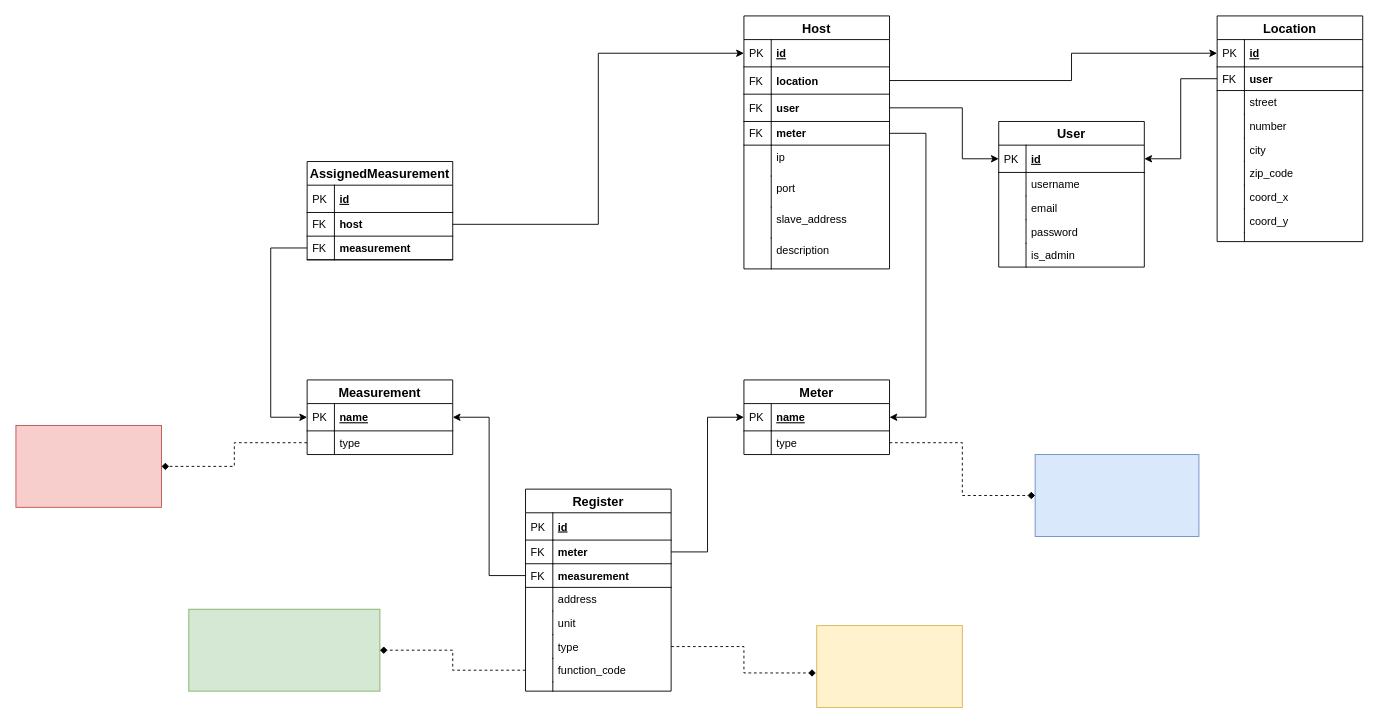
Some shapes in this 1379 by 723 pixel diagram are drawn without their labels. The shapes that lost their labels are listed below. From the top down, each one's centre as x and y in pixels, then its label:
At (x=88, y=466): "MeasurementTypes CURRENT = 1 HISTORICAL = 2".
At (x=1116, y=495): "MeterTypes SINGLE_DIRECTIONAL = 1 BI_DIRECTIONAL = 2".
At (x=284, y=649): "FunctionCodes READ_HOLDING_REGISTERS = 3 READ_INPUT_REGISTERS = 4".
At (x=889, y=666): "DataTypes INT = 1 LONG = 2 FLOAT = 3".
